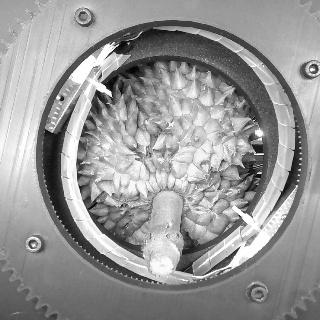base: (148, 184, 188, 217)
end: (149, 255, 174, 276)
